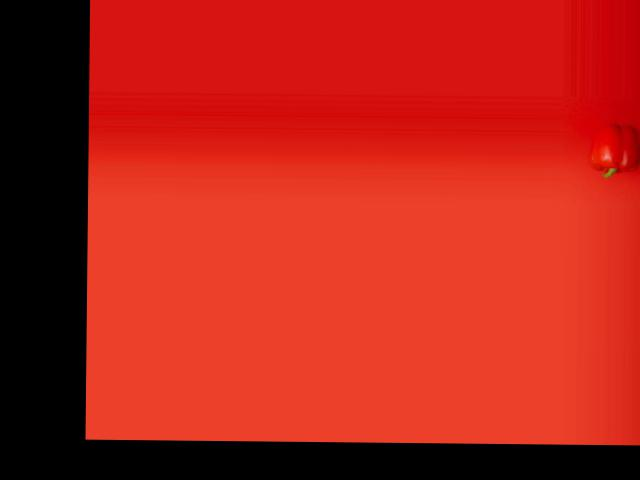bell_pepper: (591, 120, 640, 180)
